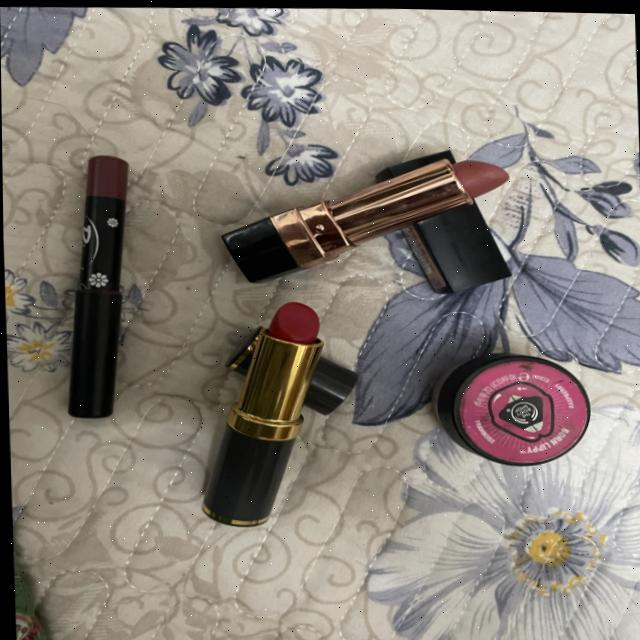lip balm: (419, 326, 601, 470)
lip liner: (44, 139, 153, 427)
lip stick: (208, 106, 554, 290), (185, 278, 350, 534)
